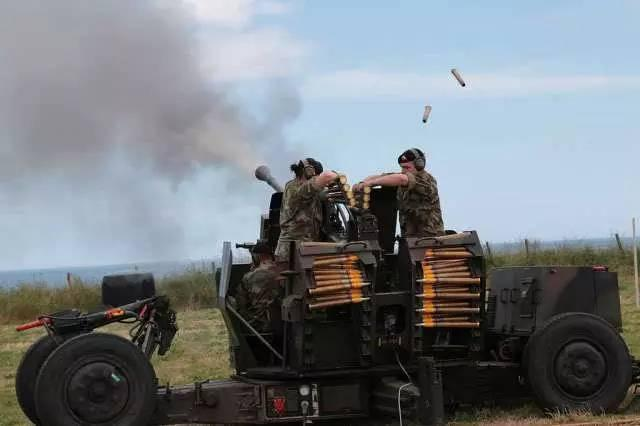MIL_SPG: (16, 160, 640, 425)
